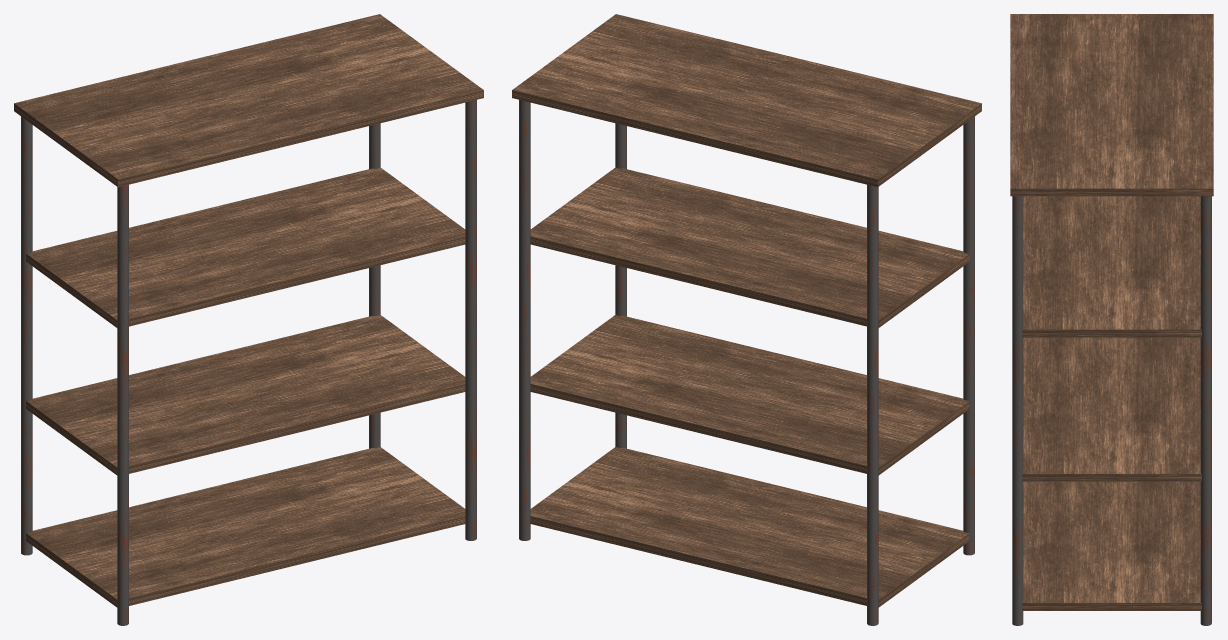
Rendered from shelf.fbx.
3 views of the same model, side by side, from view 1: azimuth 30°, elevation 25°; view 2: azimuth 150°, elevation 25°; view 3: azimuth 270°, elevation 25° (orthographic). The views are drawn at different scales.
Visible parts, largest first — view 1: pasted__pasted__pCube16, pasted__pasted__pasted__pCube16, pasted__pCube16, pasted__pasted__pasted__pasted__pCube16, pasted__pasted__pasted__pCylinder4 (×2), pasted__pasted__pasted__pasted__pCylinder4, pasted__pasted__pCylinder4; view 2: pasted__pasted__pCube16, pasted__pasted__pasted__pCube16, pasted__pCube16, pasted__pasted__pasted__pasted__pCube16, pasted__pasted__pasted__pCylinder4 (×2), pasted__pasted__pCylinder4, pasted__pasted__pasted__pasted__pCylinder4; view 3: pasted__pasted__pCube16, pasted__pasted__pasted__pasted__pCube16, pasted__pasted__pasted__pCube16, pasted__pCube16, pasted__pasted__pasted__pasted__pCylinder4, pasted__pasted__pasted__pCylinder4.
Part boxes in pixels (x1,y1,x2,y2): pasted__pasted__pCube16: (14,14,483,187); pasted__pasted__pasted__pCube16: (26,167,465,327); pasted__pCube16: (26,447,465,607); pasted__pasted__pasted__pasted__pCube16: (26,314,465,475); pasted__pasted__pasted__pCylinder4 (×2): (117,123,380,625); pasted__pasted__pasted__pasted__pCylinder4: (465,100,476,540); pasted__pasted__pCylinder4: (21,116,32,555); pasted__pasted__pCube16: (512,14,981,187); pasted__pasted__pasted__pCube16: (530,167,969,327); pasted__pCube16: (530,447,969,607); pasted__pasted__pasted__pasted__pCube16: (530,314,969,475); pasted__pasted__pasted__pCylinder4 (×2): (519,100,974,555); pasted__pasted__pCylinder4: (867,184,878,625); pasted__pasted__pasted__pasted__pCylinder4: (615,123,626,448); pasted__pasted__pCube16: (1010,14,1213,196); pasted__pasted__pasted__pasted__pCube16: (1022,337,1201,481); pasted__pasted__pasted__pCube16: (1022,196,1201,337); pasted__pCube16: (1022,481,1201,610); pasted__pasted__pasted__pasted__pCylinder4: (1012,196,1023,625); pasted__pasted__pasted__pCylinder4: (1200,196,1211,625).
Size of the model in its own units: 64.31 by 75.44 by 31.65.
1 material, 1 textured.
